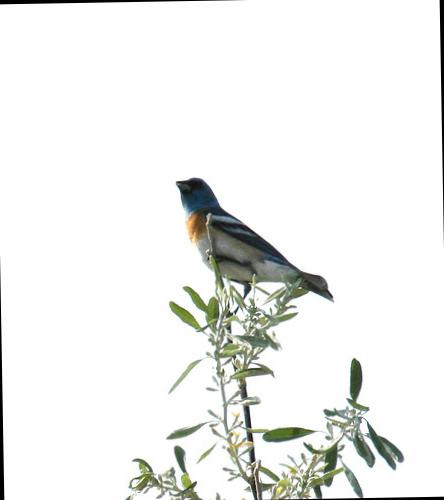bird: (148, 153, 354, 324)
